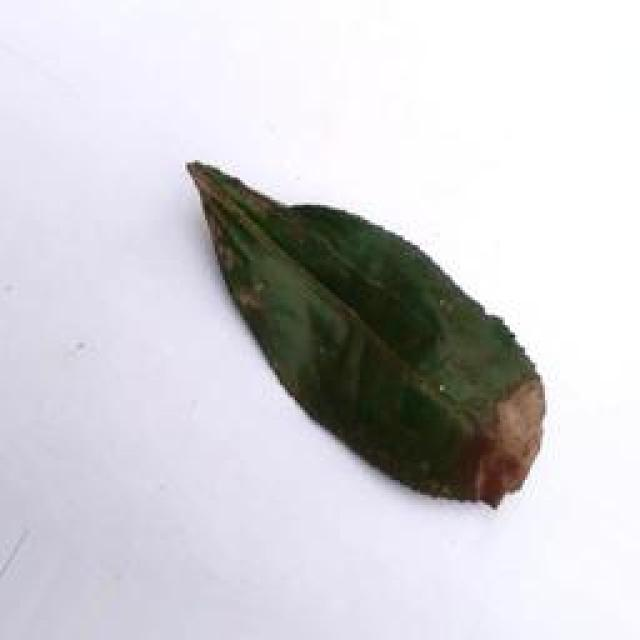Brown Blight: (172, 155, 566, 512)
